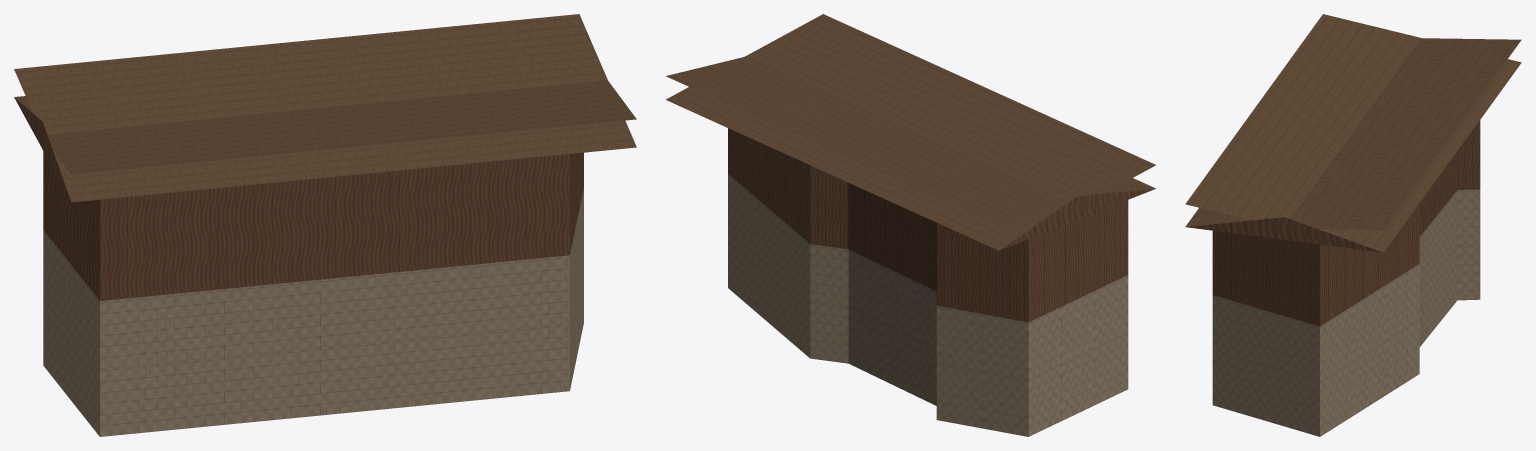
Rendered from bld_c23_47_395.gltf.
The picture shows the model from 3 angles, left to right: view 1: azimuth 30°, elevation 25°; view 2: azimuth 150°, elevation 25°; view 3: azimuth 270°, elevation 25°; orthographic projection. The views are drawn at different scales.
Visible parts, largest first — view 1: bld_c23_47_395; view 2: bld_c23_47_395; view 3: bld_c23_47_395.
Part boxes in pixels (left/top/right/bottom): bld_c23_47_395: left=14, top=14, right=636, bottom=436; bld_c23_47_395: left=666, top=14, right=1155, bottom=436; bld_c23_47_395: left=1185, top=14, right=1521, bottom=436.
Size of the model in its own units: 20.36 by 9.7 by 13.41.
Materials: 4 (4 with a texture image).
